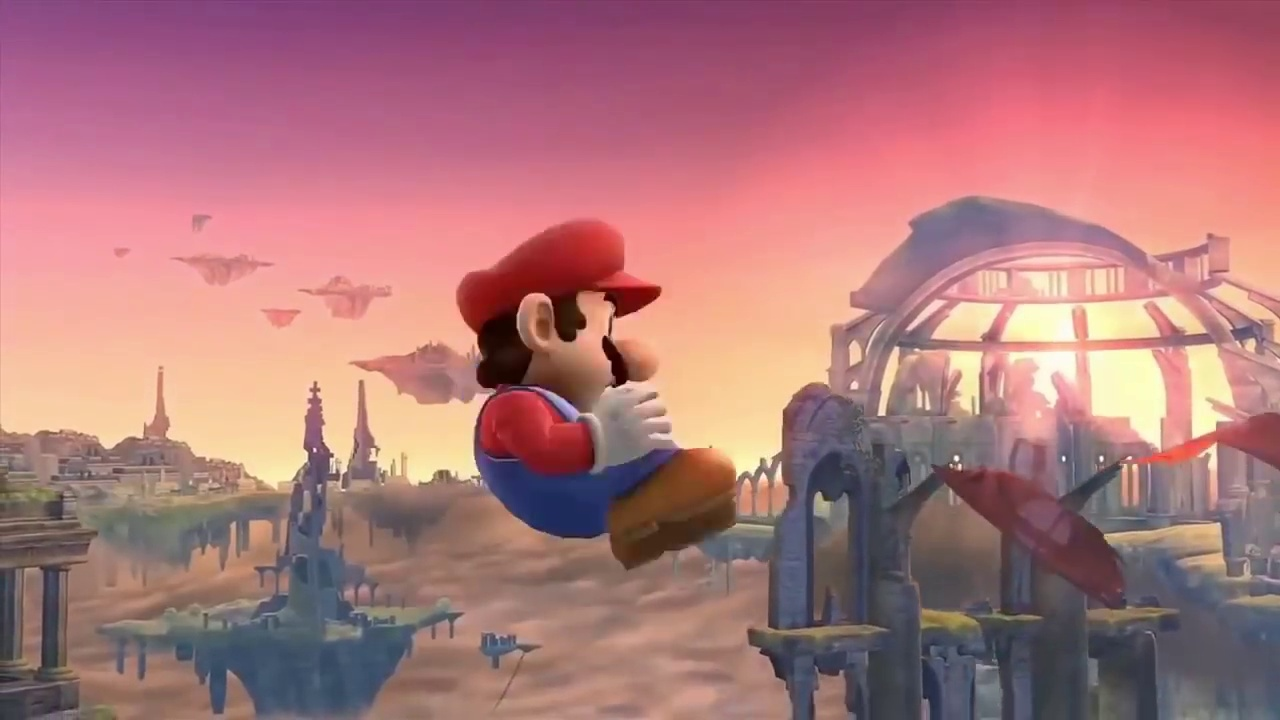Mario: (454, 220, 738, 567)
